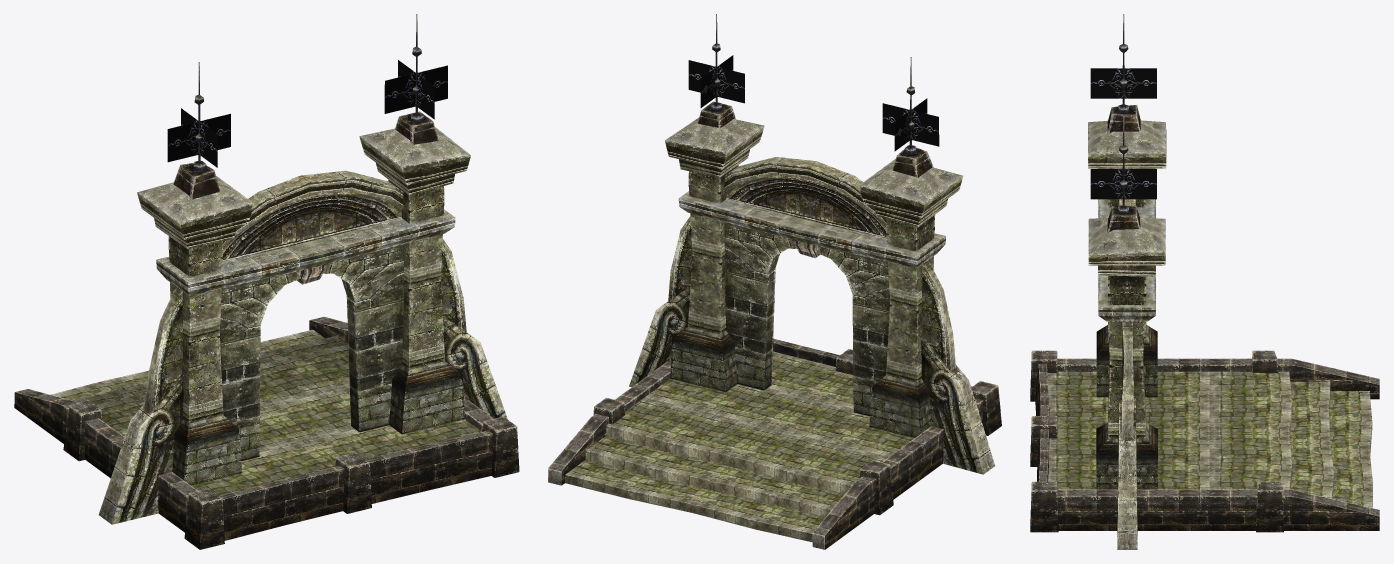
File: OZ_30_mi_warp03A.glb
3 views of the same model, side by side, from view 1: azimuth 30°, elevation 25°; view 2: azimuth 150°, elevation 25°; view 3: azimuth 270°, elevation 25° (orthographic). The views are drawn at different scales.
Parts seen in each view (by area): view 1: OM_30_mi_warp03A; view 2: OM_30_mi_warp03A; view 3: OM_30_mi_warp03A.
Part boxes in pixels (x1,y1,x2,y2): OM_30_mi_warp03A: [14, 14, 519, 549]; OM_30_mi_warp03A: [548, 14, 1001, 549]; OM_30_mi_warp03A: [1030, 14, 1379, 549].
Size of the model in its own units: 12.39 by 13.01 by 10.32.
2 materials, 2 textured.
